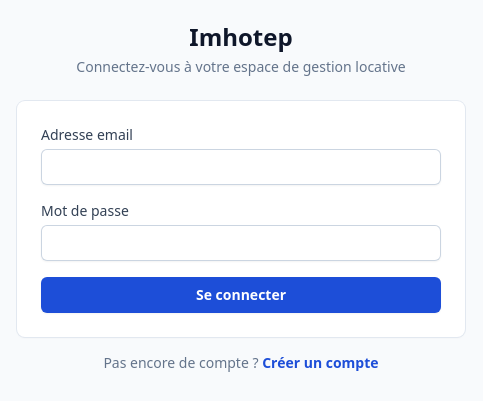
Test: LoginPage › shows an email format error for an invalid email
Type "pas-un-email" into the field labelled "Adresse email" at x=241, y=167, box [41,149,441,185]
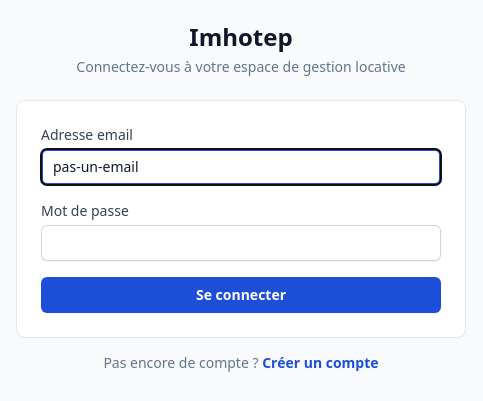
Type "secret" into the password field labelled "Mot de passe" at x=241, y=243, box [41,225,441,261]
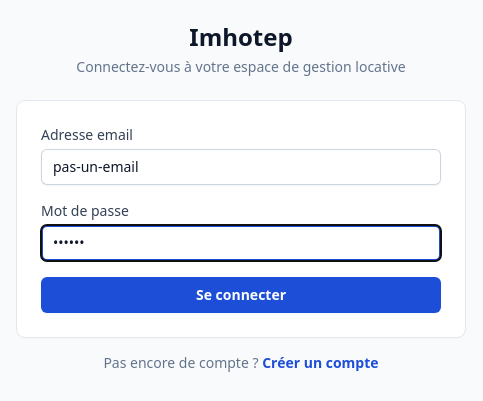
Click the button "Se connecter" at x=241, y=295, box [41,277,441,313]
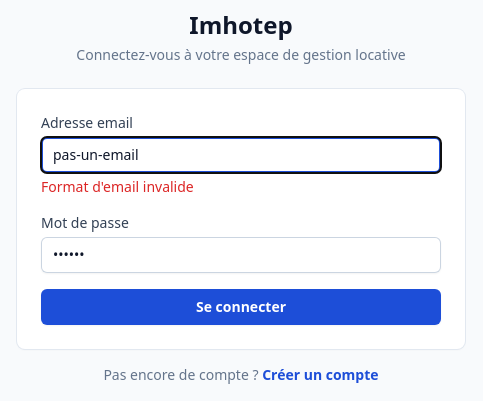
Now the text "Format d'email invalide" is shown, box [41,177,194,196]
